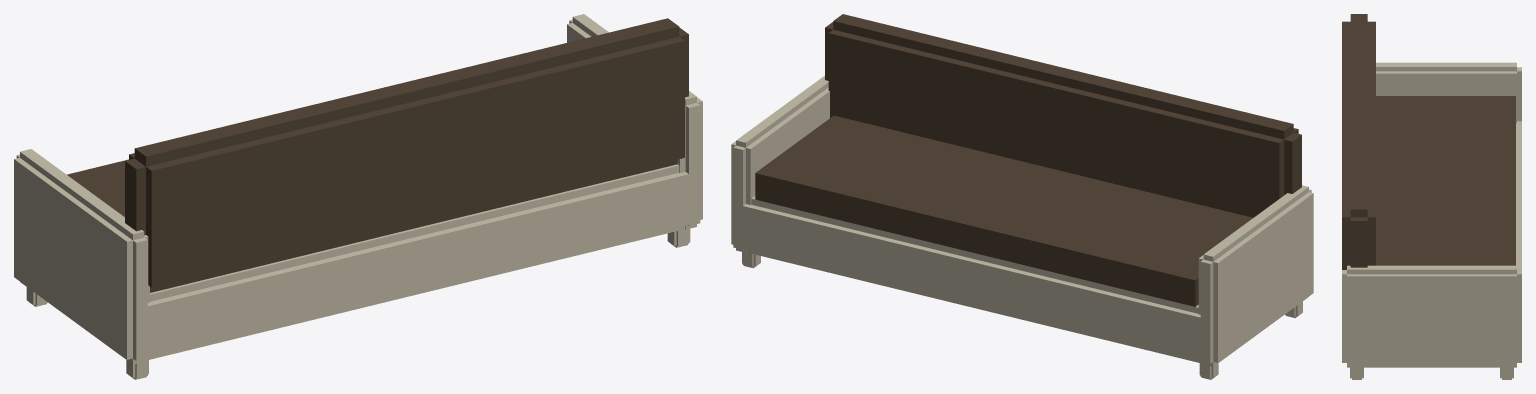
File: bone_sofa_v0.glb
3 views of the same model, side by side, from view 1: azimuth 30°, elevation 25°; view 2: azimuth 150°, elevation 25°; view 3: azimuth 270°, elevation 25° (orthographic). The views are drawn at different scales.
Visible parts, largest first — view 1: bone_sofa_v0; view 2: bone_sofa_v0; view 3: bone_sofa_v0.
Boxes of the visible parts, box(x1,y1,x2,y2) form: bone_sofa_v0: box(14, 14, 702, 379); bone_sofa_v0: box(731, 14, 1313, 379); bone_sofa_v0: box(1342, 14, 1521, 379).
Size of the model in its own units: 2.5 by 0.92 by 0.9.
